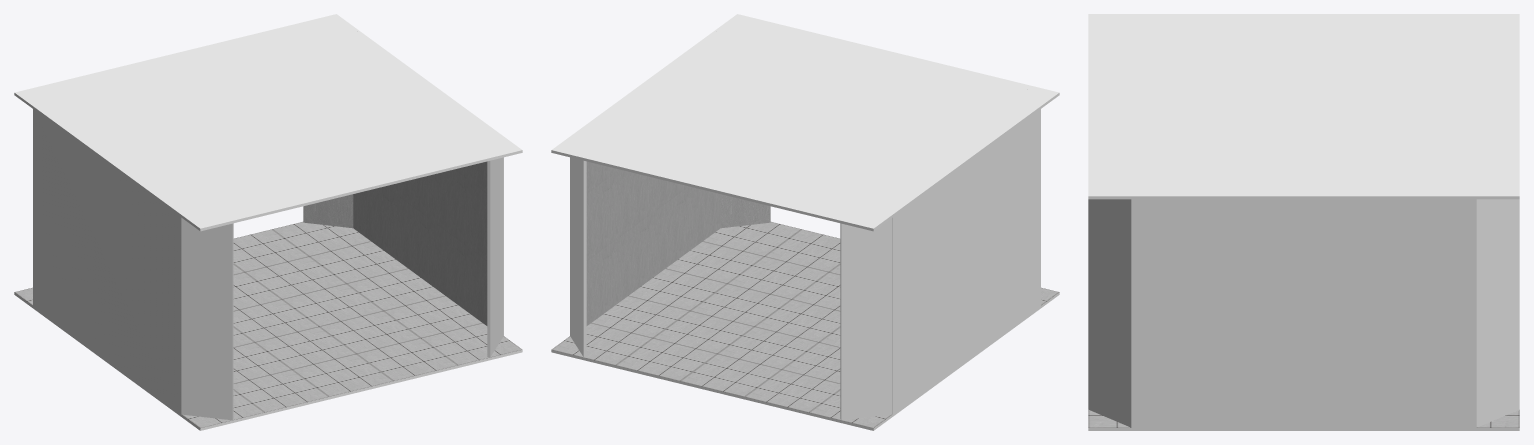
Rendered from CDAConnector.fbx.
The picture shows the model from 3 angles, left to right: view 1: azimuth 30°, elevation 25°; view 2: azimuth 150°, elevation 25°; view 3: azimuth 270°, elevation 25°; orthographic projection. The views are drawn at different scales.
Parts seen in each view (by area): view 1: node_id4, node_id25 (×2), node_id10, node_id7 (×2), node_id22, node_id19, node_id16; view 2: node_id4, node_id25 (×2), node_id10, node_id7 (×2), node_id13, node_id16, node_id19; view 3: node_id7, node_id4, node_id19, node_id16, node_id25 (×2), node_id10.
Boxes of the visible parts, x1,y1,x2,y2 form: node_id4: (14,14,522,231); node_id25 (×2): (14,222,522,430); node_id10: (33,106,183,416); node_id7 (×2): (353,27,503,335); node_id22: (182,214,233,420); node_id19: (487,136,503,357); node_id16: (303,194,353,228); node_id4: (551,14,1059,231); node_id25 (×2): (551,222,1059,430); node_id10: (890,106,1040,416); node_id7 (×2): (570,28,720,335); node_id13: (840,214,891,420); node_id16: (570,136,586,357); node_id19: (720,194,770,228); node_id7: (1131,195,1476,427); node_id4: (1088,14,1519,199); node_id19: (1088,177,1133,427); node_id16: (1475,177,1519,427); node_id25 (×2): (1088,409,1519,430); node_id10: (1132,14,1475,15).
Bounding box in the file's own units: 0.512 × 0.3072 × 0.512.
16 materials, 8 textured.
